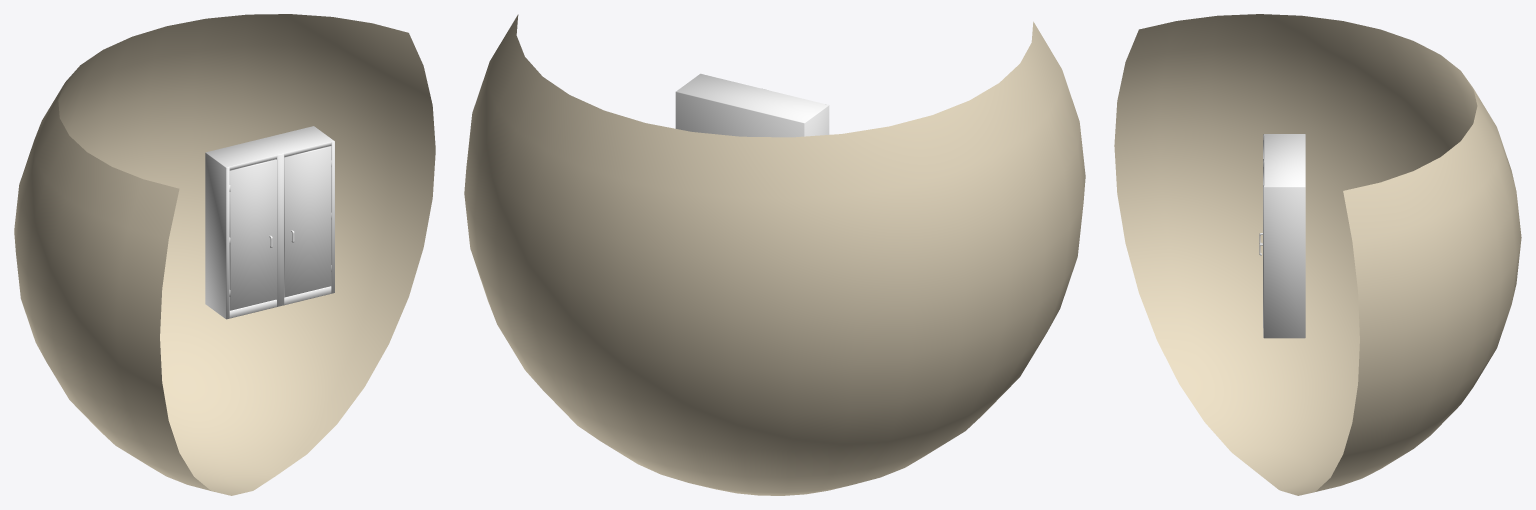
The model's file is cabinet.fbx.
3 views of the same model, side by side, from view 1: azimuth 30°, elevation 25°; view 2: azimuth 150°, elevation 25°; view 3: azimuth 270°, elevation 25° (orthographic). The views are drawn at different scales.
Visible parts, largest first — view 1: Sphere, cabinet_frame, cabinet_rdoor, cabinet_ldoor; view 2: Sphere, cabinet_frame; view 3: Sphere, cabinet_frame.
Boxes of the visible parts, x1,y1,x2,y2 form: Sphere: [14, 14, 435, 495]; cabinet_frame: [205, 126, 334, 319]; cabinet_rdoor: [284, 146, 331, 297]; cabinet_ldoor: [229, 159, 276, 310]; Sphere: [464, 14, 1085, 495]; cabinet_frame: [675, 73, 829, 137]; Sphere: [1114, 14, 1521, 495]; cabinet_frame: [1263, 134, 1305, 338].
Size of the model in its own units: 602 by 487 by 487.
